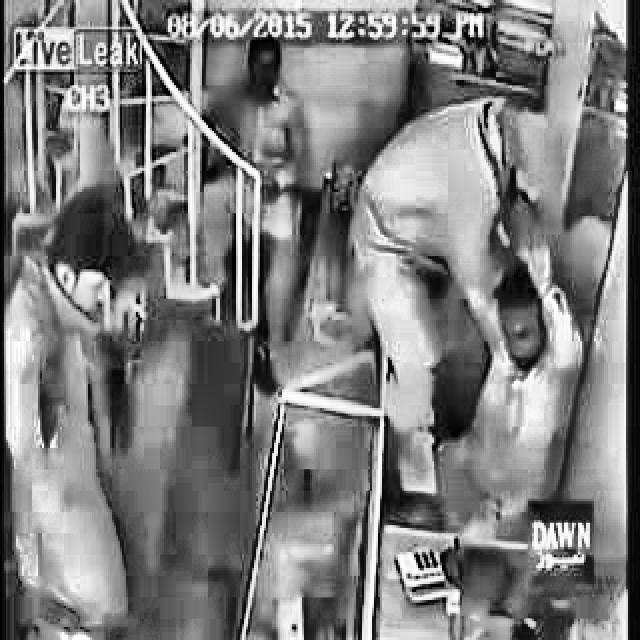robbery: (349, 92, 576, 496)
